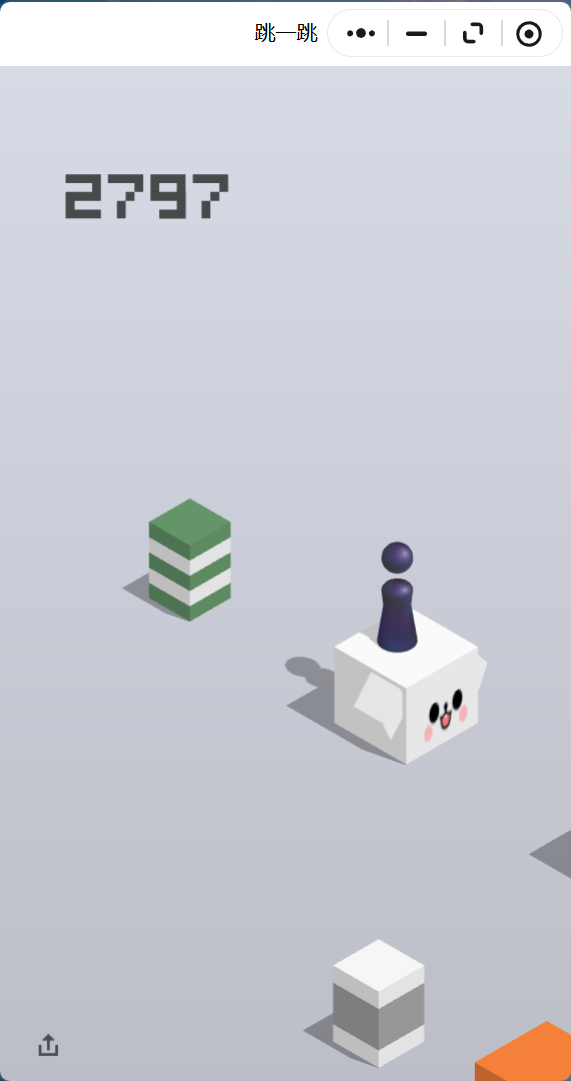piece: (381, 542, 412, 649)
target: (149, 499, 231, 546)
